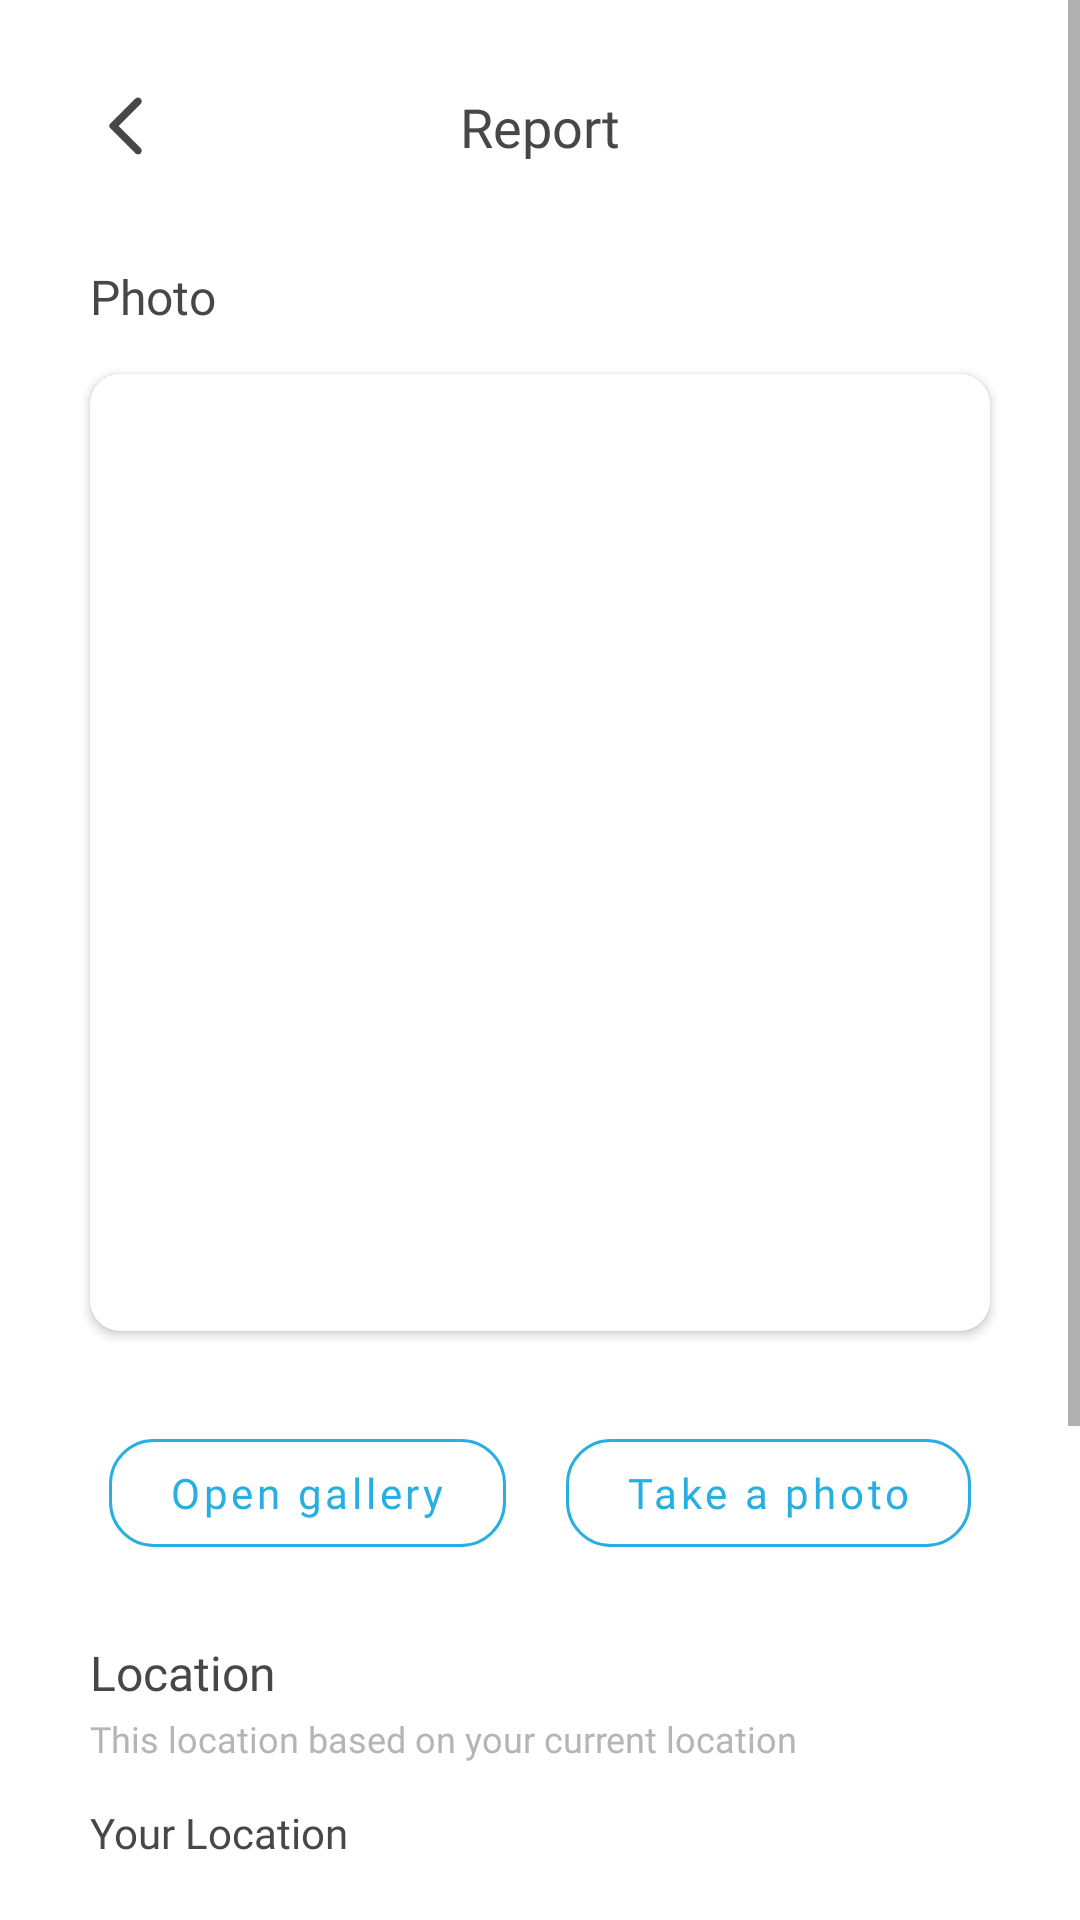

Icons on this 1080 × 1920 Android screen, each with the point to tap as (x=x, y=y):
back: (x=125, y=126)
